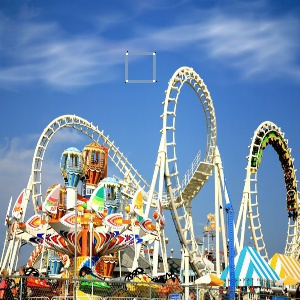square: (123, 49, 158, 84)
